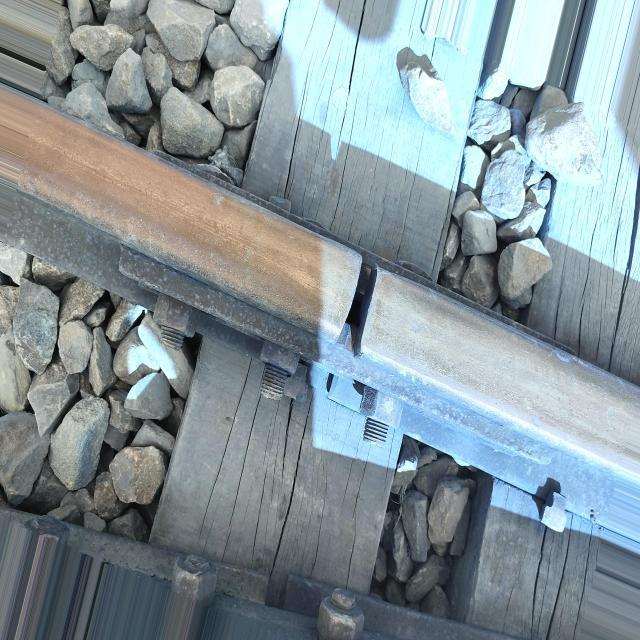Good Joint: (113, 141, 588, 475)
